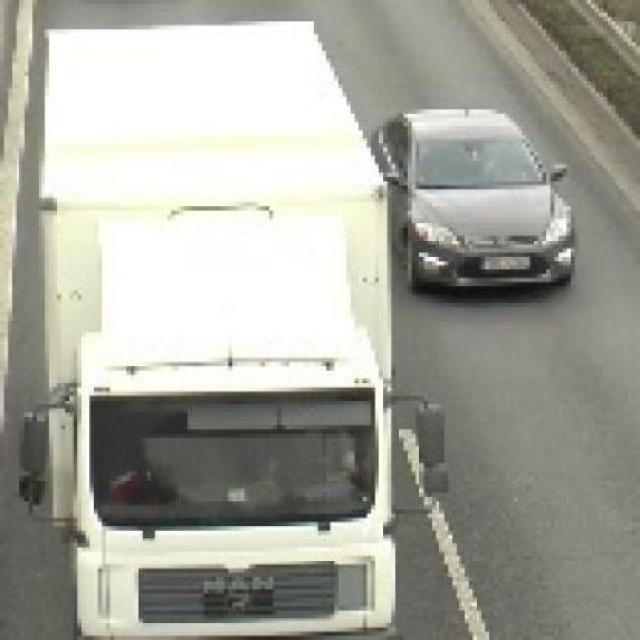truck: (50, 14, 454, 637)
